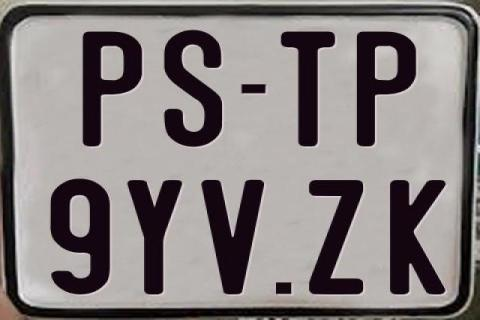0: (50, 177, 114, 296)
K: (387, 180, 445, 297)
P: (83, 30, 148, 146), (355, 29, 414, 150)
S: (163, 27, 224, 145)
T: (281, 30, 337, 146)
V: (199, 177, 267, 297)
Y: (126, 180, 183, 298)
Z: (308, 178, 362, 294)
